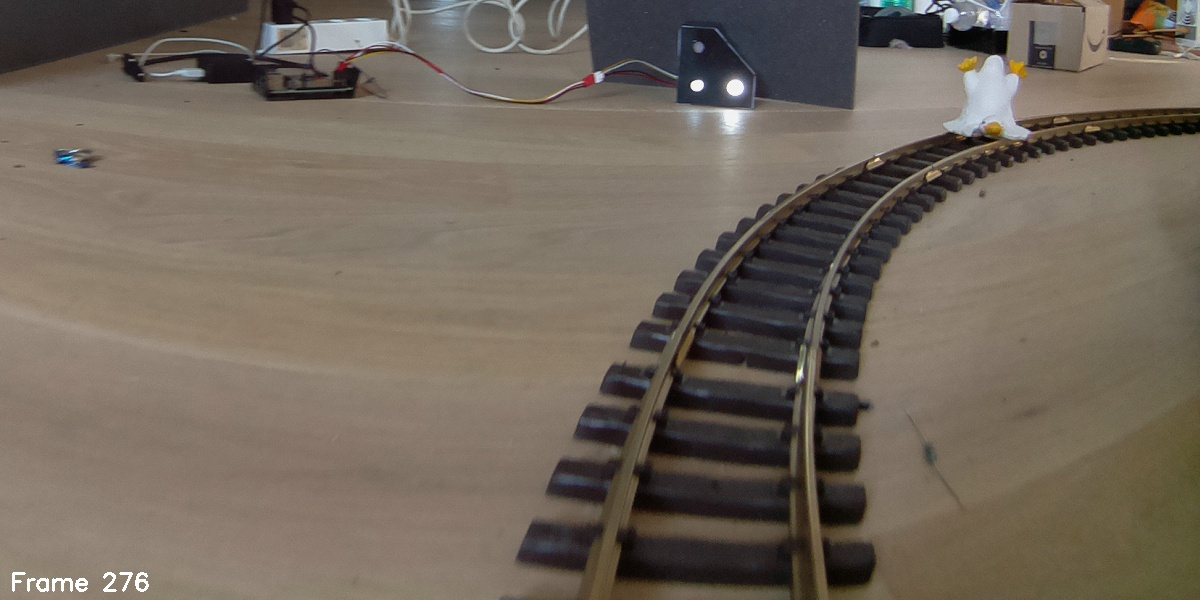Ente: (944, 54, 1039, 147)
Halt: (680, 23, 756, 112)
